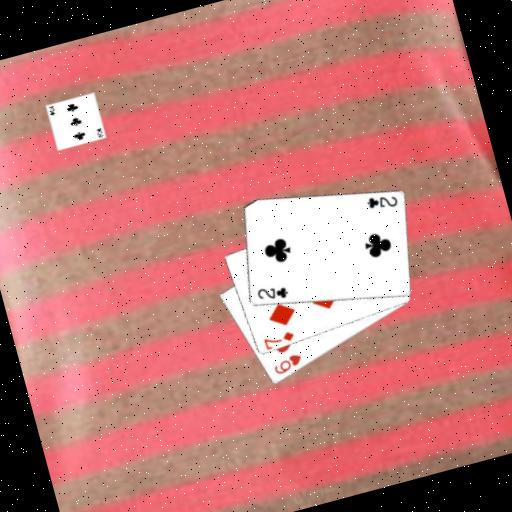2C: (252, 279, 290, 307), (362, 188, 400, 215)
6H: (268, 349, 306, 377)
7D: (259, 327, 297, 351)
